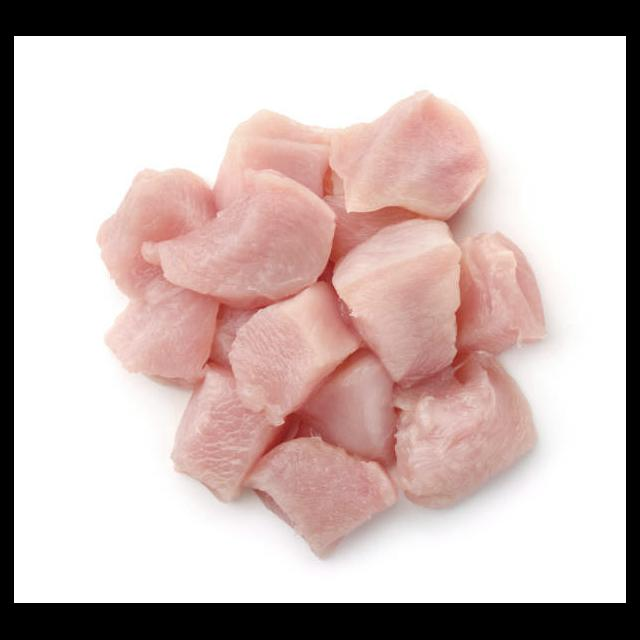chicken: (96, 92, 548, 559)
